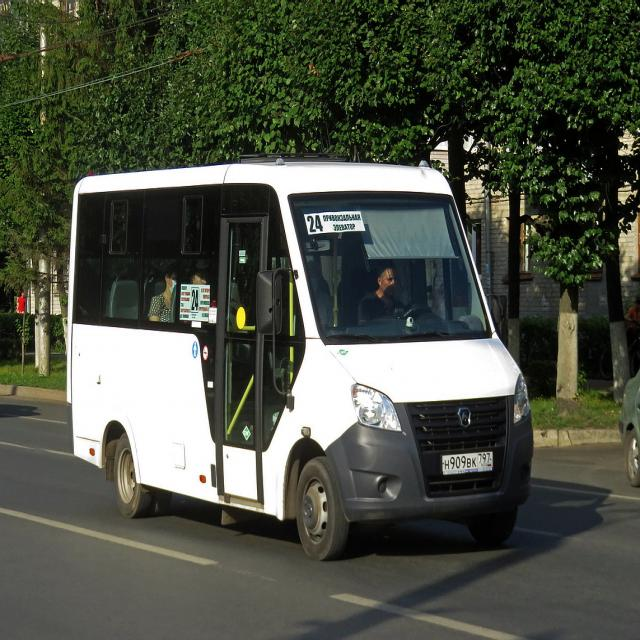number-of-bus: (306, 210, 326, 236)
